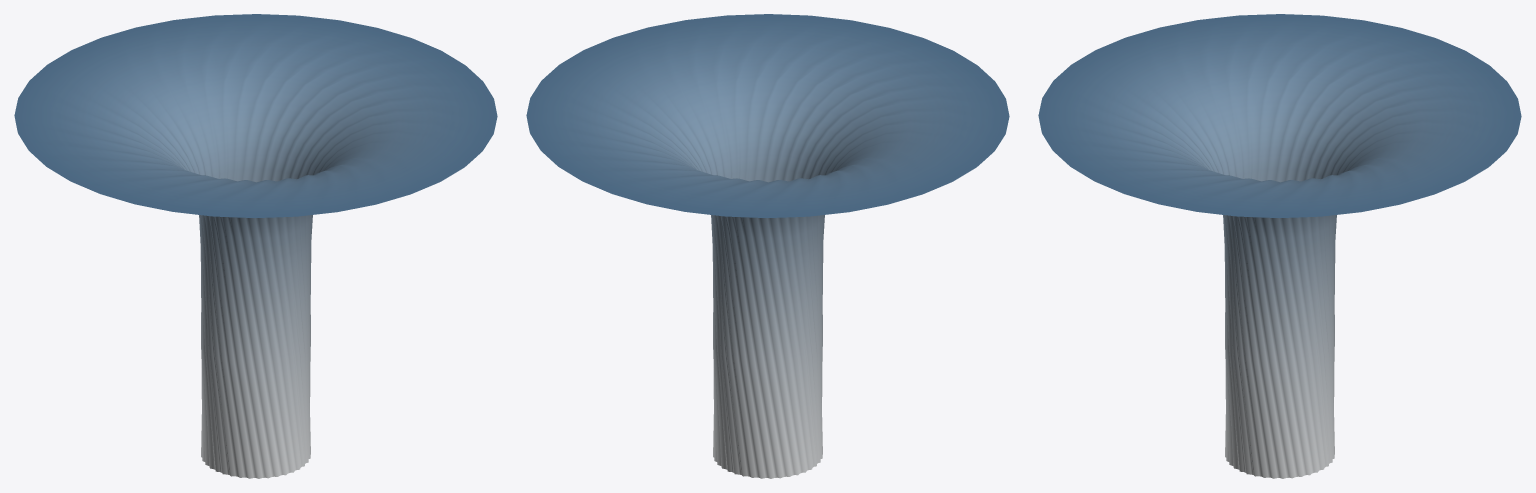
The model's file is vortex2.glb.
3 renders of one model, left to right at view 1: azimuth 30°, elevation 25°; view 2: azimuth 150°, elevation 25°; view 3: azimuth 270°, elevation 25°, orthographic.
Parts seen in each view (by area): view 1: vortex_new02; view 2: vortex_new02; view 3: vortex_new02.
Boxes of the visible parts, x1,y1,x2,y2 form: vortex_new02: (14,14,497,478); vortex_new02: (526,14,1009,478); vortex_new02: (1038,14,1521,478).
Size of the model in its own units: 13.18 by 10.23 by 13.18.
Materials: 1 (1 with a texture image).
